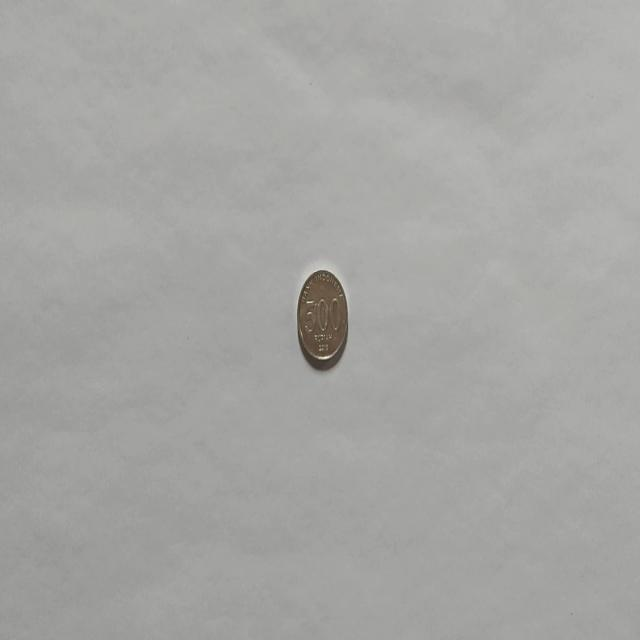lima ratus rupiah: (296, 268, 348, 370)
